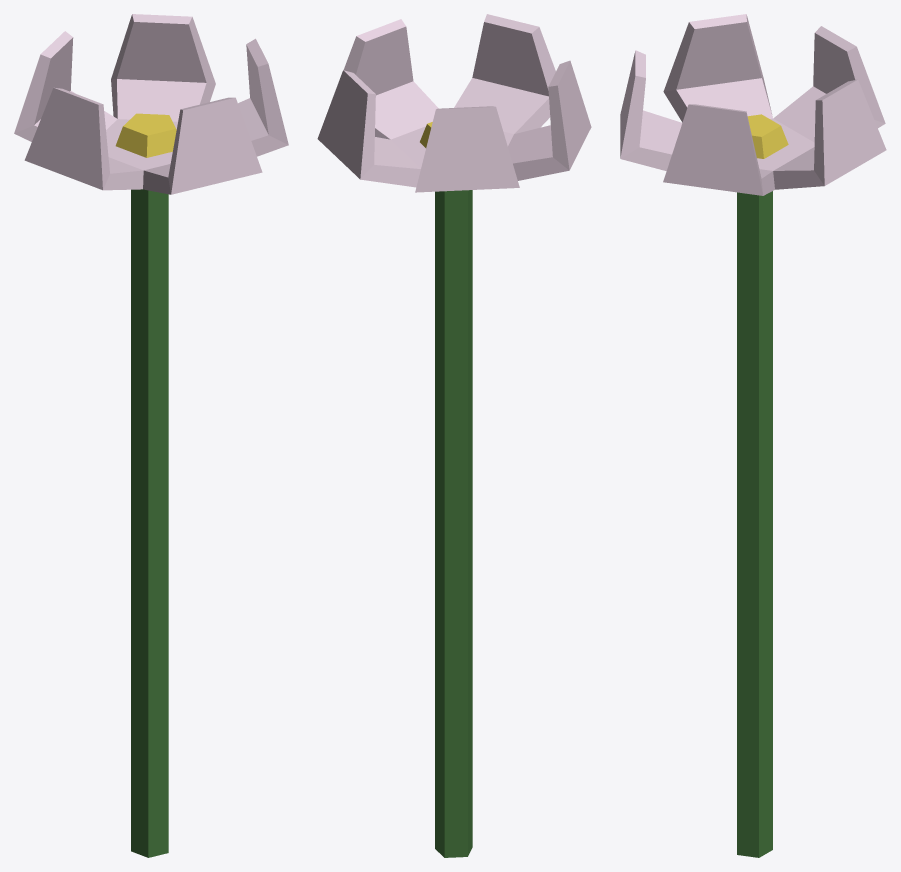
Rendered from CreativeCoding_FlowerWhite.fbx.
The picture shows the model from 3 angles, left to right: view 1: azimuth 30°, elevation 25°; view 2: azimuth 150°, elevation 25°; view 3: azimuth 270°, elevation 25°; orthographic projection.
Visible parts, largest first — view 1: Flower_high; view 2: Flower_high; view 3: Flower_high.
Boxes of the visible parts, left/top/right/bottom form: Flower_high: left=14, top=14, right=288, bottom=857; Flower_high: left=317, top=14, right=591, bottom=857; Flower_high: left=620, top=14, right=886, bottom=857.
Bounding box in the file's own units: 781 × 2430 × 745.
